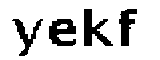e: (48, 16, 78, 51)
f: (116, 6, 140, 48)
k: (81, 6, 115, 48)
y: (12, 15, 43, 59)
